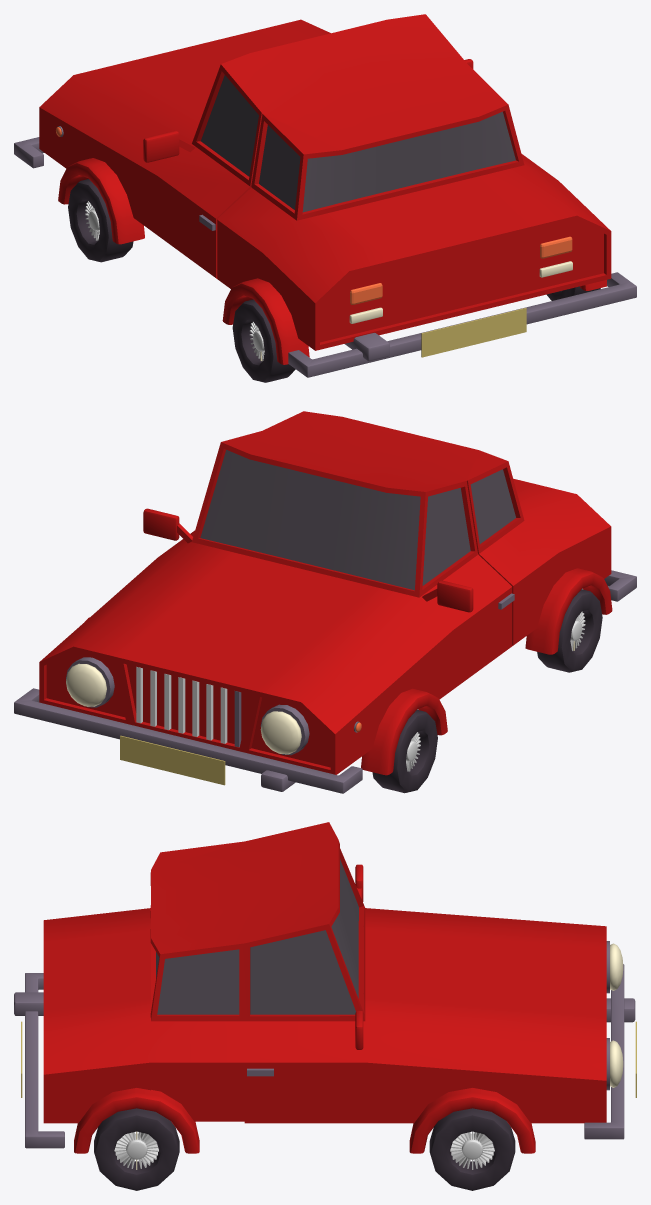
The model's file is car_fired.fbx.
The picture shows the model from 3 angles, top to bottom: view 1: azimuth 30°, elevation 25°; view 2: azimuth 150°, elevation 25°; view 3: azimuth 270°, elevation 25°; orthographic projection.
Visible parts, largest first — view 1: Car, Cube_5_4, Tube, Tube_1_2, Tube_1, Tube_2, License_plate_BACK, light_000, miror, BACK_bumper, light_00, Cube_5; view 2: Car, Cube_5, Tube_1_2, Tube_1, Sphere, Tube_2, Tube, License_plate_FRONT, miror, Cylinder, Cube_5_4; view 3: Car, Tube_2, Tube, Tube_1, Tube_1_2, Cube_5_4, Cube_5, Sphere, BACK_bumper, miror.
Boxes of the visible parts, left/top/right/bottom form: Car: left=39, top=14, right=611, bottom=350; Cube_5_4: left=288, top=272, right=636, bottom=377; Tube: left=232, top=286, right=600, bottom=382; Tube_1_2: left=58, top=158, right=144, bottom=244; Tube_1: left=222, top=278, right=606, bottom=364; Tube_2: left=68, top=179, right=133, bottom=262; License_plate_BACK: left=421, top=308, right=526, bottom=357; light_000: left=350, top=236, right=572, bottom=304; miror: left=143, top=59, right=473, bottom=162; BACK_bumper: left=344, top=333, right=389, bottom=361; light_00: left=349, top=261, right=572, bottom=323; Cube_5: left=14, top=137, right=44, bottom=168; Car: left=39, top=411, right=611, bottom=774; Cube_5: left=14, top=688, right=362, bottom=793; Tube_1_2: left=85, top=617, right=447, bottom=775; Tube_1: left=525, top=568, right=612, bottom=654; Sphere: left=66, top=663, right=301, bottom=754; Tube_2: left=372, top=709, right=437, bottom=793; Tube: left=537, top=589, right=602, bottom=672; License_plate_FRONT: left=120, top=735, right=225, bottom=785; miror: left=143, top=508, right=473, bottom=612; Cylinder: left=66, top=657, right=309, bottom=755; Cube_5_4: left=604, top=570, right=636, bottom=601; Car: left=43, top=822, right=606, bottom=1123; Tube_2: left=429, top=1108, right=515, bottom=1190; Tube: left=94, top=1108, right=179, bottom=1190; Tube_1: left=74, top=1088, right=199, bottom=1153; Tube_1_2: left=409, top=1088, right=535, bottom=1153; Cube_5_4: left=25, top=973, right=64, bottom=1148; Cube_5: left=584, top=964, right=624, bottom=1139; Sphere: left=610, top=943, right=623, bottom=1087; BACK_bumper: left=14, top=992, right=43, bottom=1015; miror: left=355, top=864, right=363, bottom=1049.
Bounding box in the file's own units: 291 × 195 × 465.
